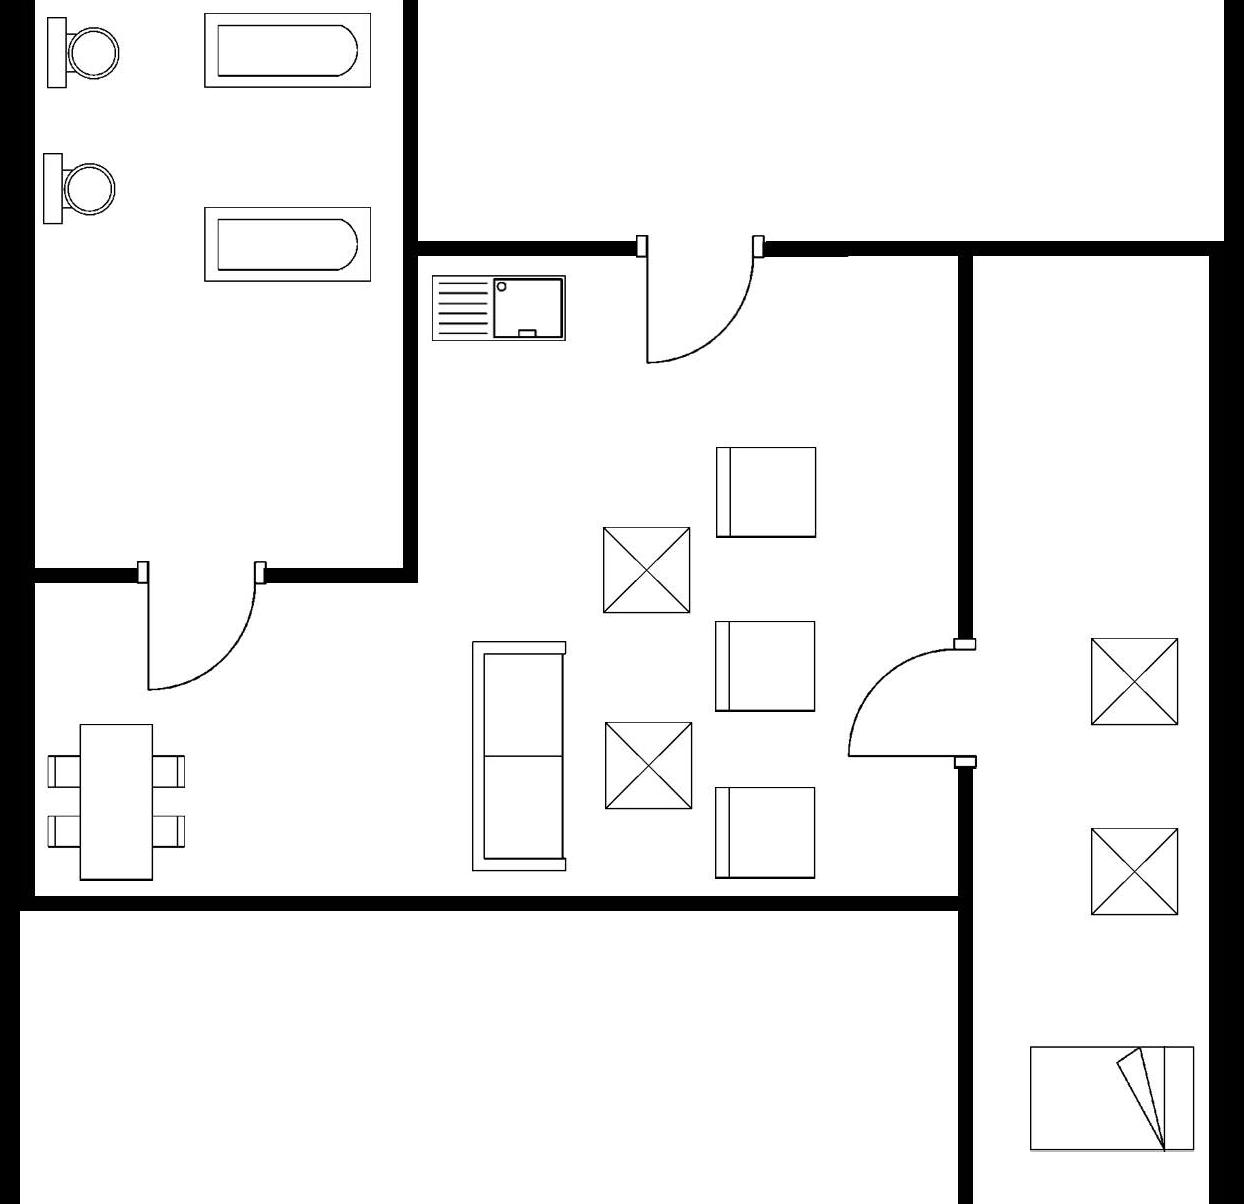bed: (1019, 1041, 1201, 1158)
dining_table: (41, 711, 192, 887)
sink: (421, 268, 575, 350)
sofa: (461, 630, 575, 884)
toilet: (39, 142, 126, 235), (37, 7, 122, 100)
tub: (193, 199, 378, 294), (191, 8, 379, 100)
